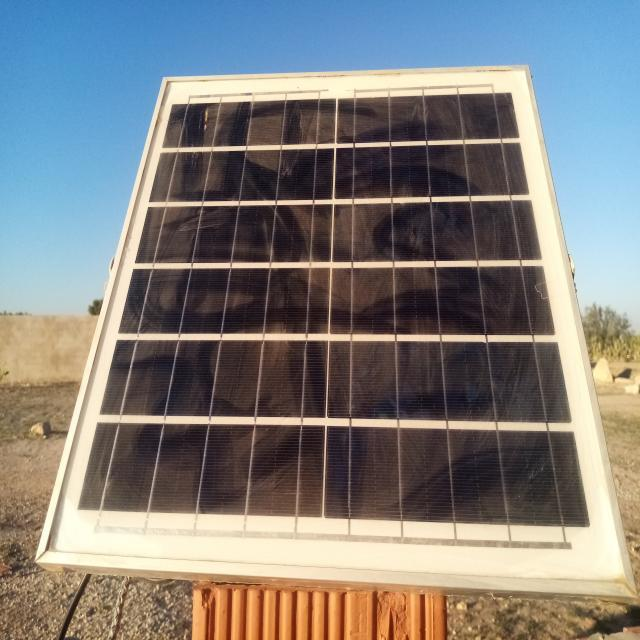faulty: (37, 70, 632, 591)
